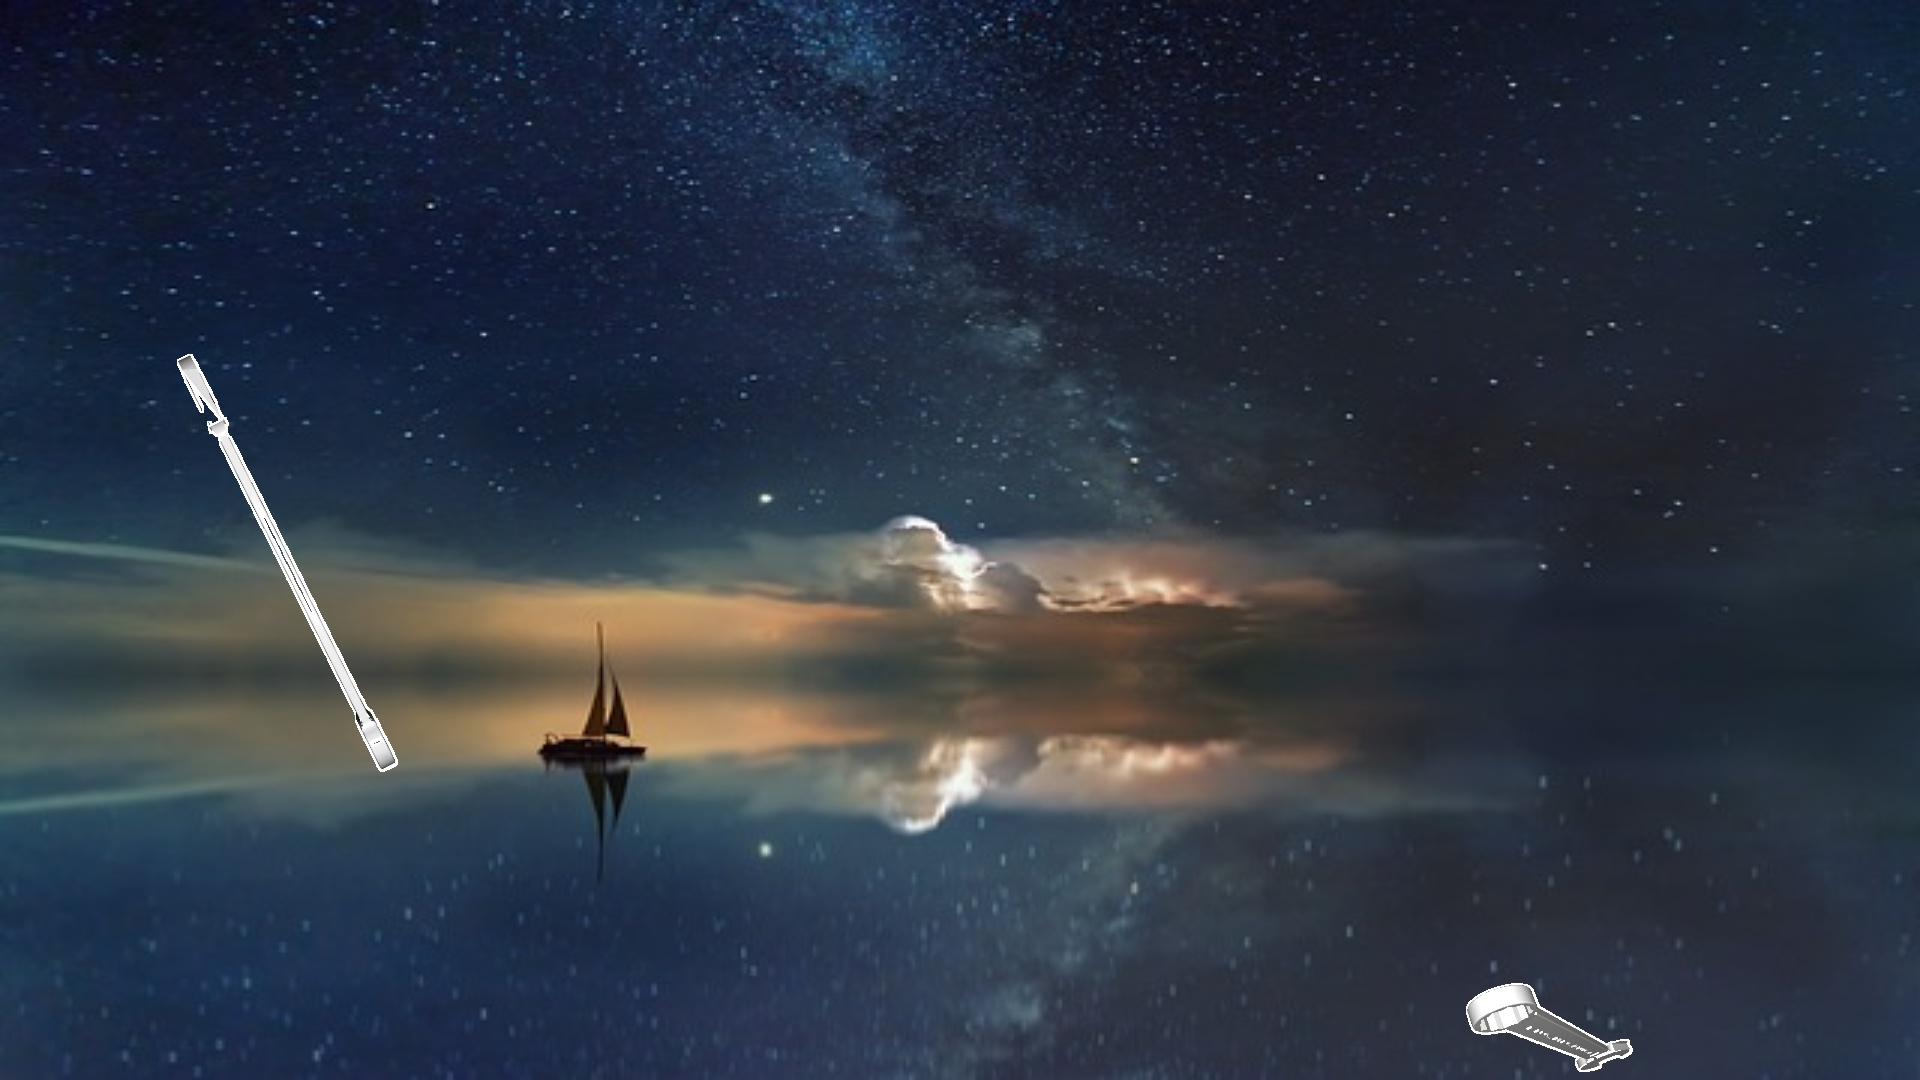Mixed Key: (177, 353, 397, 771), (1466, 982, 1633, 1071)
